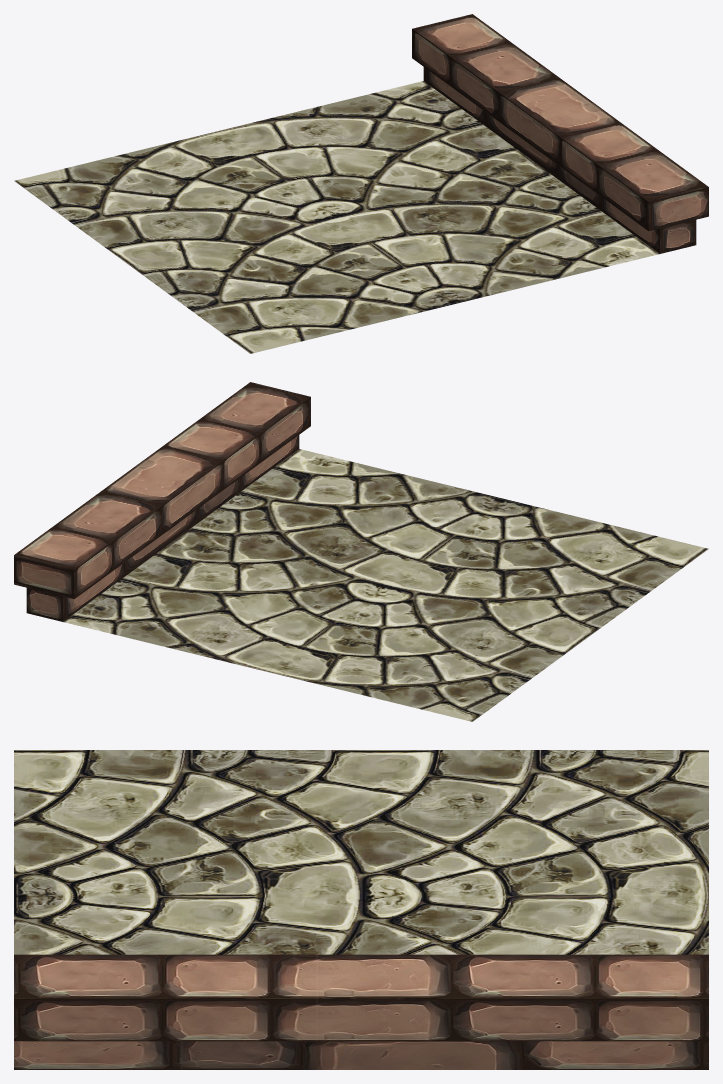
File: Adr_Suelo_004.fbx
3 views of the same model, one above another, from view 1: azimuth 30°, elevation 25°; view 2: azimuth 150°, elevation 25°; view 3: azimuth 270°, elevation 25° (orthographic). The views are drawn at different scales.
Parts seen in each view (by area): view 1: Adr_Suelo_004; view 2: Adr_Suelo_004; view 3: Adr_Suelo_004.
Part boxes in pixels (left/top/right/bottom): Adr_Suelo_004: left=14, top=14, right=708, bottom=353; Adr_Suelo_004: left=14, top=382, right=708, bottom=721; Adr_Suelo_004: left=14, top=750, right=708, bottom=1069.
Size of the model in its own units: 5.6 by 0.6412 by 5.
